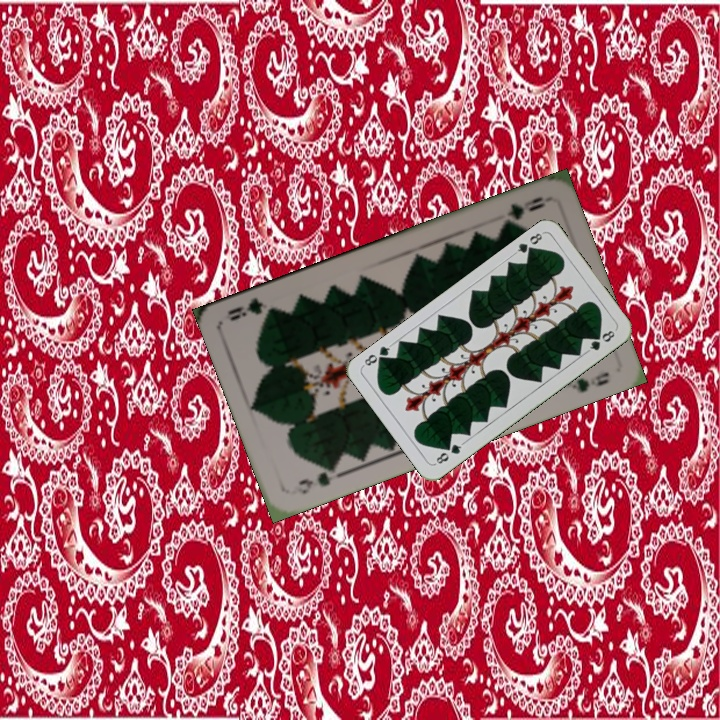G8: (510, 229, 545, 258), (431, 439, 466, 467)
G9: (287, 461, 345, 498), (498, 192, 548, 229)
